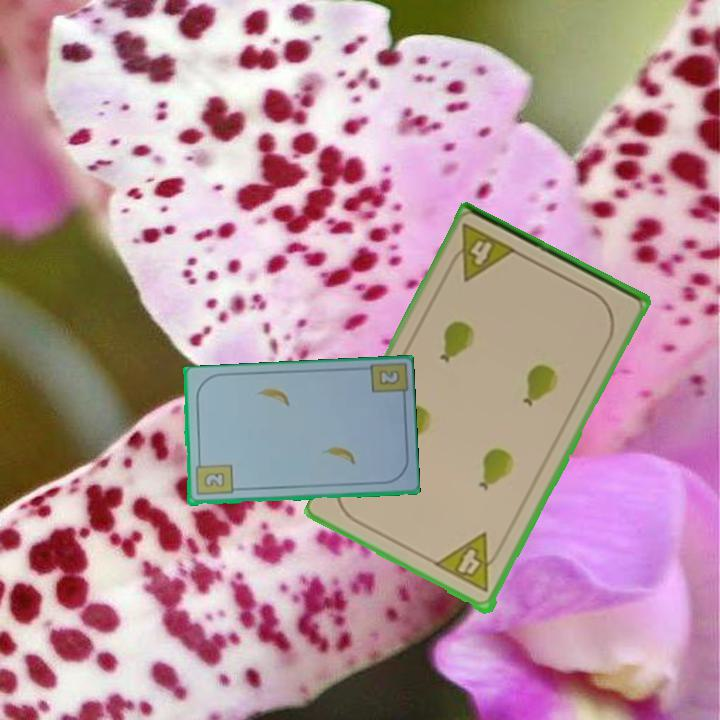2b: (192, 456, 235, 498), (375, 366, 403, 388)
4p: (442, 220, 520, 286), (433, 530, 507, 596)
